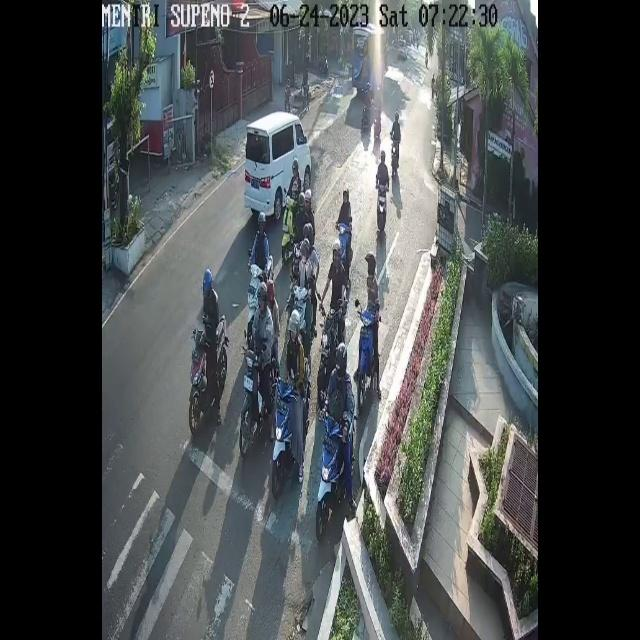bus: (189, 314, 228, 436), (315, 417, 347, 545), (269, 379, 296, 495), (240, 346, 264, 453), (358, 310, 376, 394), (321, 309, 344, 363), (280, 193, 296, 263), (247, 263, 263, 313), (292, 285, 308, 328), (337, 221, 352, 261), (376, 183, 387, 236), (372, 104, 381, 143), (391, 135, 400, 173)
car: (351, 27, 387, 98)
motorcycle: (245, 110, 312, 220)
